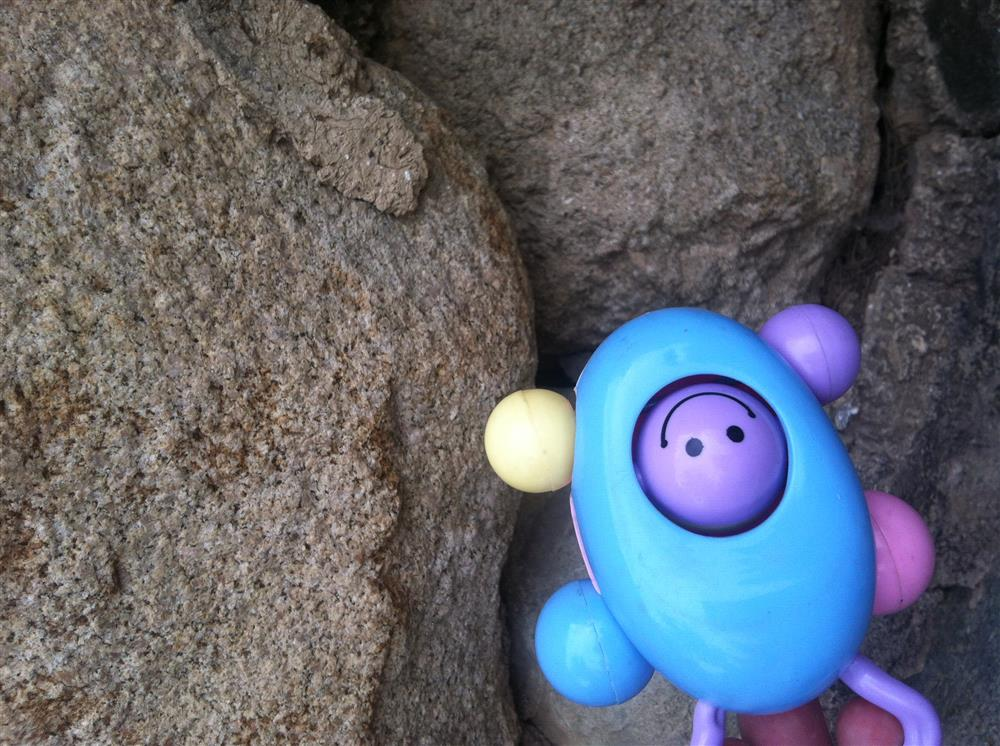toy_carman: (487, 301, 946, 738)
